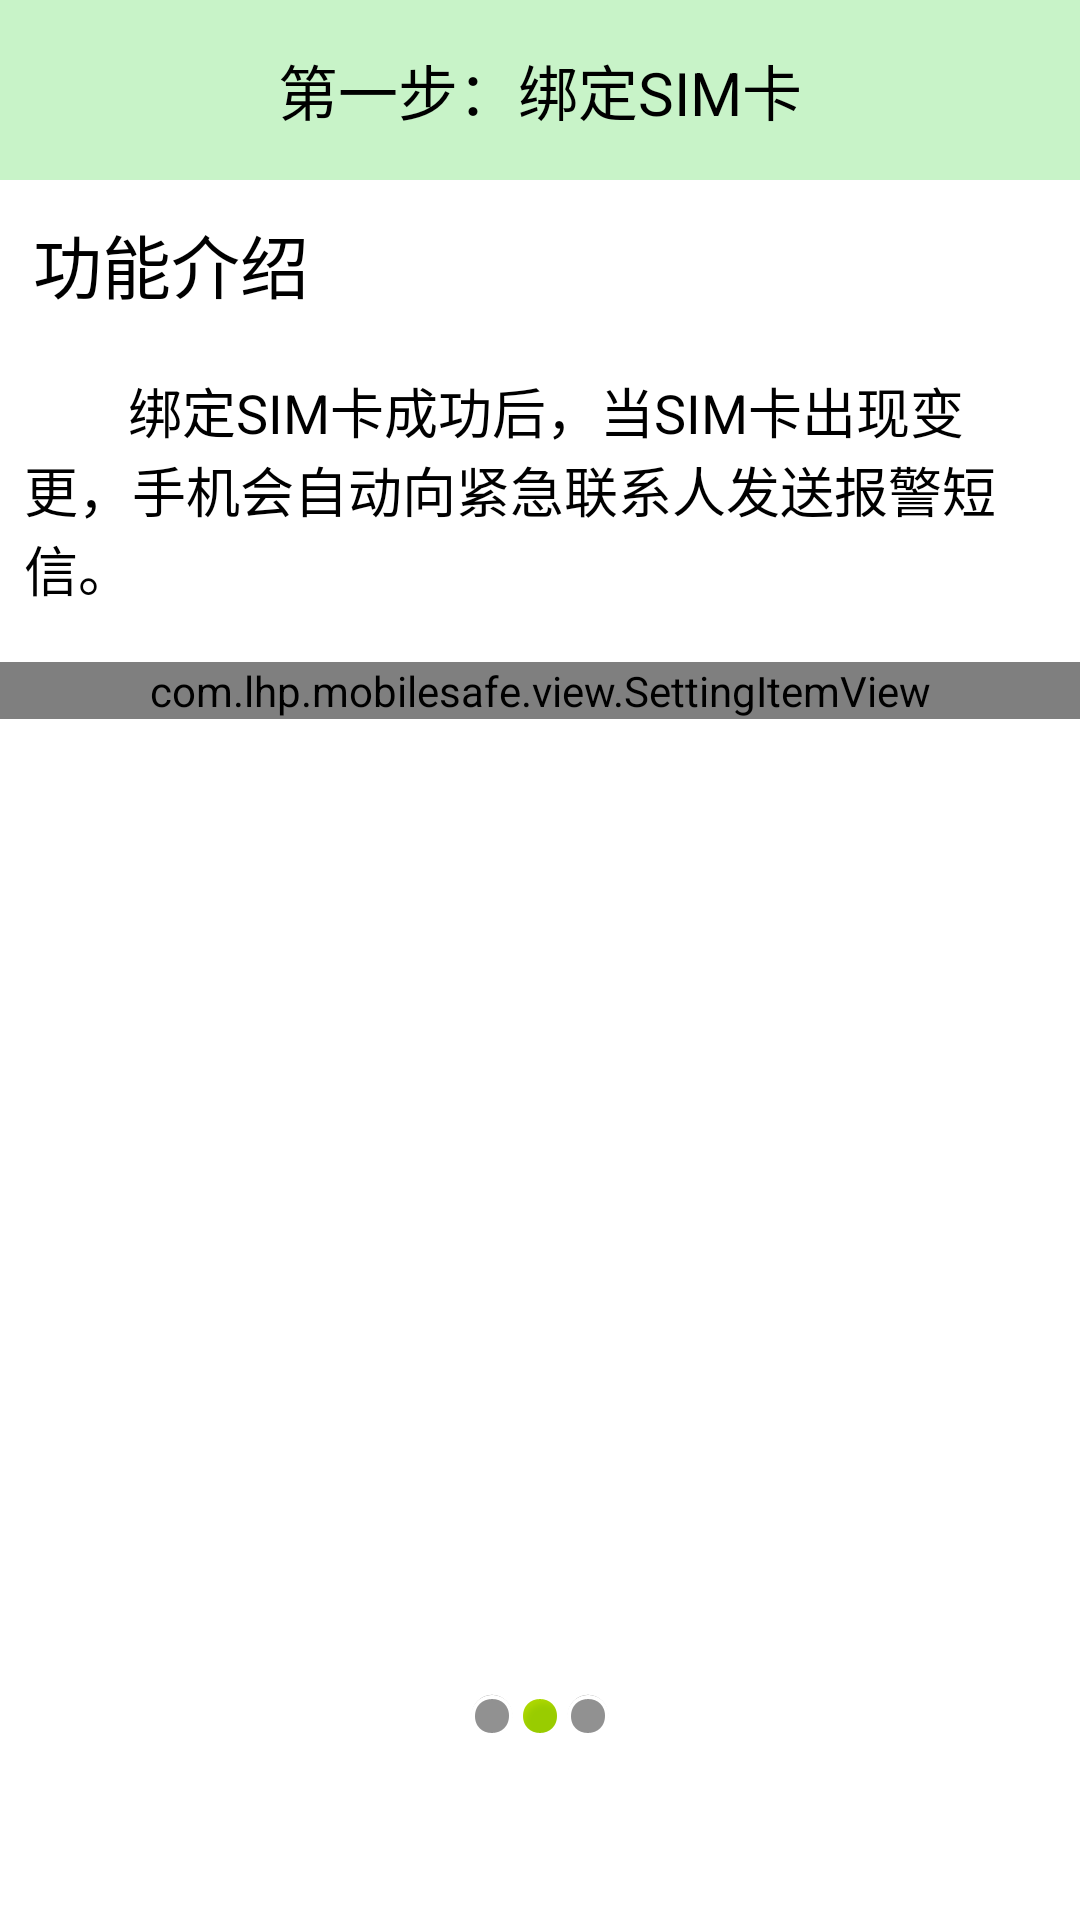

Icons on this 1080 x 1920 Android screen, each with the point to tap as (x,y):
presence invisible: (492,1714), (588,1714)
presence online: (540,1716)
